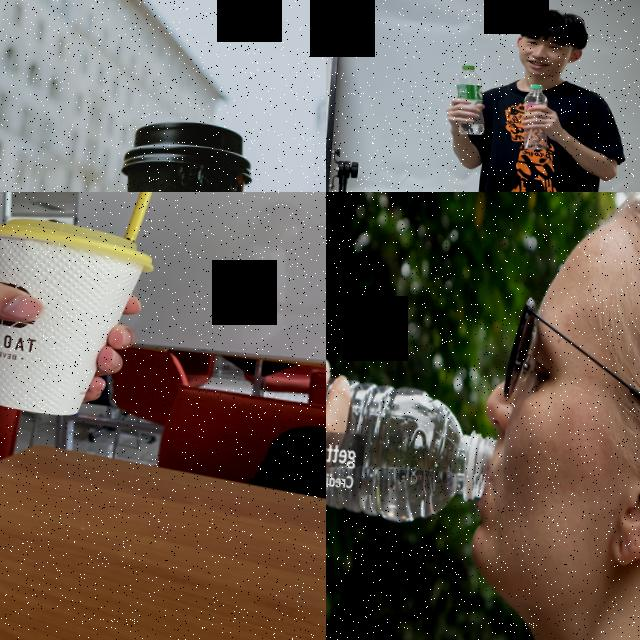bottle: (326, 353, 499, 532), (450, 62, 490, 138), (518, 82, 552, 152)
cup: (0, 213, 156, 424), (100, 114, 257, 192)
